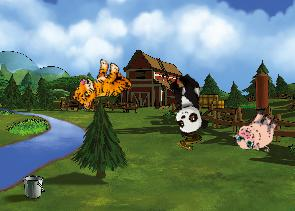panda: (164, 71, 210, 137)
pig: (230, 104, 283, 159)
tiger: (68, 52, 136, 122)
